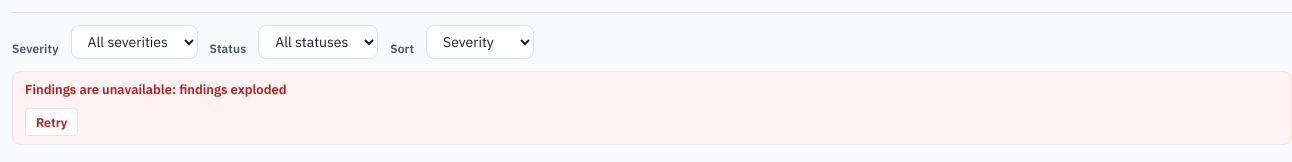
Scenario: FindingsPanel › surfaces backend errors with a retry control
Expected: the message shows "Findings are unavailable: findings exploded", [12, 71, 1291, 145]
Click the button "Retry" at (52, 122), box [25, 108, 78, 136]
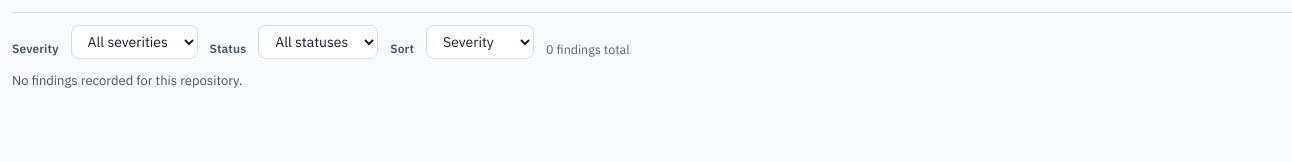
Result: the text "No findings recorded for this repository." is shown at [12, 72, 242, 89]
